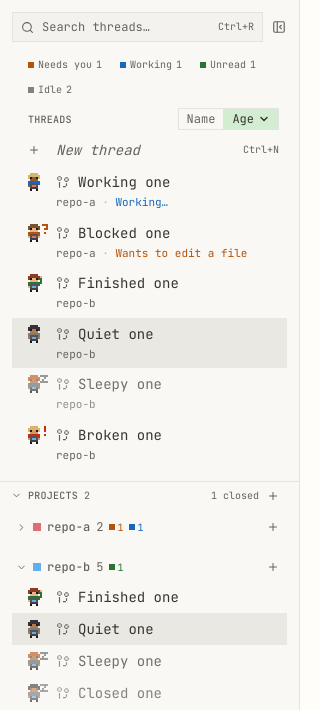
Sidebar attention triage › lists open, quiet threads under Idle, and leaves closed and errored ones out
The image size is (320, 710).
Expected: the text "Closed one" is shown, [78, 684, 162, 702]
Expected: the 1st text "Broken one" is shown, [78, 426, 162, 444]
Click the button titled "Idle: 2" at (50, 90), box [21, 79, 79, 100]
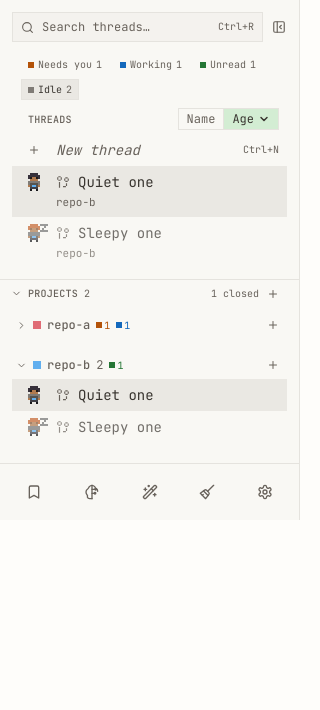
Now the button "Closed one" is gone
Now the button "Broken one" is gone
Now the button "Working one" is gone
